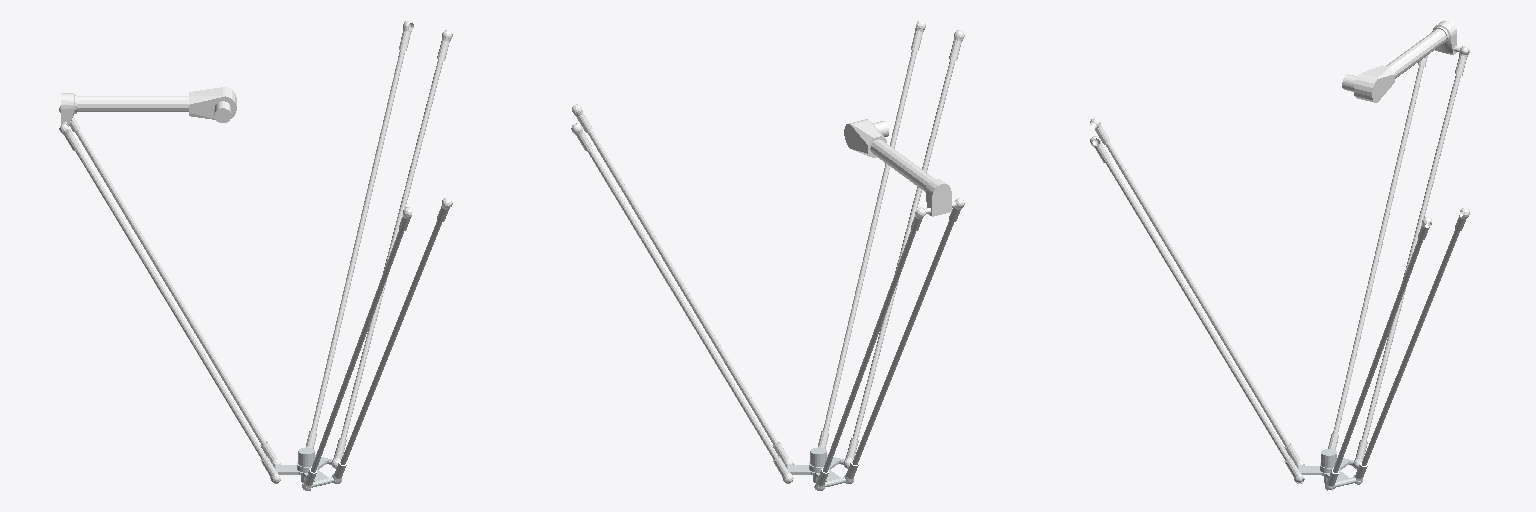
URDF robot description (delta2):
<?xml version="1.0" encoding="utf-8"?>
<!-- This URDF was automatically created by SolidWorks to URDF Exporter! Originally created by [author] ([email redacted]) 
     Commit Version: 1.6.0-1-g15f4949  Build Version: 1.6.7594.29634
     For more information, please see http://wiki.ros.org/sw_urdf_exporter -->
<robot
  name="delta2">
  <link
    name="base_link">
    <inertial>
      <origin
        xyz="0.380382318022096 -0.533525803977991 0.659302446320337"
        rpy="0 0 0" />
      <mass
        value="156.162689770185" />
      <inertia
        ixx="7.59889681143528"
        ixy="9.24660486503827E-05"
        ixz="-0.000259409545019092"
        iyy="7.59824264740178"
        iyz="0.00010227513749873"
        izz="10.3617884952824" />
    </inertial>
    <visual>
      <origin
        xyz="0 0 0"
        rpy="0 0 0" />
      <geometry>
        <mesh
          filename="package://delta2/meshes/base_link.STL" />
      </geometry>
      <material
        name="">
        <color
          rgba="1 1 1 1" />
      </material>
    </visual>
    <collision>
      <origin
        xyz="0 0 0"
        rpy="0 0 0" />
      <geometry>
        <mesh
          filename="package://delta2/meshes/base_link.STL" />
      </geometry>
    </collision>
  </link>
  <link
    name="upper_arm1">
    <inertial>
      <origin
        xyz="0.114792252146982 0.00182152585989759 0.0495423331065887"
        rpy="0 0 0" />
      <mass
        value="0.646884412038514" />
      <inertia
        ixx="0.000166776951356192"
        ixy="-0.000187543246495448"
        ixz="-4.04262175373021E-09"
        iyy="0.00675559133337472"
        iyz="6.15021017053937E-11"
        izz="0.0067770914347623" />
    </inertial>
    <visual>
      <origin
        xyz="0 0 0"
        rpy="0 0 0" />
      <geometry>
        <mesh
          filename="package://delta2/meshes/upper_arm1.STL" />
      </geometry>
      <material
        name="">
        <color
          rgba="1 1 1 1" />
      </material>
    </visual>
    <collision>
      <origin
        xyz="0 0 0"
        rpy="0 0 0" />
      <geometry>
        <mesh
          filename="package://delta2/meshes/upper_arm1.STL" />
      </geometry>
    </collision>
  </link>
  <joint
    name="joint1"
    type="revolute">
    <origin
      xyz="0.33287 -0.68352 0.39876"
      rpy="-1.5708 0 -1.5708" />
    <parent
      link="base_link" />
    <child
      link="upper_arm1" />
    <axis
      xyz="0 0 1" />
    <limit
      lower="0"
      upper="3.1416"
      effort="0"
      velocity="0" />
  </joint>
  <link
    name="lower_arm1">
    <inertial>
      <origin
        xyz="-0.0385647214747921 -0.395441709949408 0.00405635944419508"
        rpy="0 0 0" />
      <mass
        value="0.25492151618481" />
      <inertia
        ixx="0.0162920368473119"
        ixy="0.000189885453090978"
        ixz="1.85041042902049E-06"
        iyy="9.64407573212208E-06"
        iyz="-8.02477692587144E-05"
        izz="0.0162956013994657" />
    </inertial>
    <visual>
      <origin
        xyz="0 0 0"
        rpy="0 0 0" />
      <geometry>
        <mesh
          filename="package://delta2/meshes/lower_arm1.STL" />
      </geometry>
      <material
        name="">
        <color
          rgba="1 1 1 1" />
      </material>
    </visual>
    <collision>
      <origin
        xyz="0 0 0"
        rpy="0 0 0" />
      <geometry>
        <mesh
          filename="package://delta2/meshes/lower_arm1.STL" />
      </geometry>
    </collision>
  </link>
  <joint
    name="joint_lower1"
    type="fixed">
    <origin
      xyz="0.272569839075917 0.0246294631227099 0.00529664007075714"
      rpy="-0.0325087905561728 1.17076498742548 -2.67328944867135" />
    <parent
      link="upper_arm1" />
    <child
      link="lower_arm1" />
    <axis
      xyz="-0.80268650488072 0.389300348101268 -0.451816184250414" />
  </joint>
  <link
    name="upper_arm2">
    <inertial>
      <origin
        xyz="0.114792221305799 -0.00182152765219501 0.184356660884912"
        rpy="0 0 0" />
      <mass
        value="0.646884127953808" />
      <inertia
        ixx="0.000166777031838409"
        ixy="0.000187543435284771"
        ixz="4.3661167258054E-09"
        iyy="0.00675559025398929"
        iyz="7.91226234243781E-11"
        izz="0.00677709036650219" />
    </inertial>
    <visual>
      <origin
        xyz="0 0 0"
        rpy="0 0 0" />
      <geometry>
        <mesh
          filename="package://delta2/meshes/upper_arm2.STL" />
      </geometry>
      <material
        name="">
        <color
          rgba="1 1 1 1" />
      </material>
    </visual>
    <collision>
      <origin
        xyz="0 0 0"
        rpy="0 0 0" />
      <geometry>
        <mesh
          filename="package://delta2/meshes/upper_arm2.STL" />
      </geometry>
    </collision>
  </link>
  <joint
    name="joint2"
    type="revolute">
    <origin
      xyz="0.41708 -0.2971 0.39876"
      rpy="1.5708 0 0.5236" />
    <parent
      link="base_link" />
    <child
      link="upper_arm2" />
    <axis
      xyz="0 0 1" />
    <limit
      lower="-1.8717"
      upper="1.2699"
      effort="0"
      velocity="0" />
  </joint>
  <link
    name="lower_arm2">
    <inertial>
      <origin
        xyz="-0.106055427510473 -0.39544439868225 0.150769042438625"
        rpy="0 0 0" />
      <mass
        value="0.254921517015059" />
      <inertia
        ixx="0.0162961618156893"
        ixy="-4.65485707678165E-05"
        ixz="-1.15454674235013E-06"
        iyy="9.64407858575136E-06"
        iyz="-0.000200822067603626"
        izz="0.0162914765757807" />
    </inertial>
    <visual>
      <origin
        xyz="0 0 0"
        rpy="0 0 0" />
      <geometry>
        <mesh
          filename="package://delta2/meshes/lower_arm2.STL" />
      </geometry>
      <material
        name="">
        <color
          rgba="1 1 1 1" />
      </material>
    </visual>
    <collision>
      <origin
        xyz="0 0 0"
        rpy="0 0 0" />
      <geometry>
        <mesh
          filename="package://delta2/meshes/lower_arm2.STL" />
      </geometry>
    </collision>
  </link>
  <joint
    name="joint_lower2"
    type="fixed">
    <origin
      xyz="0.161268370049302 0.0346872050122739 0.314264003482573"
      rpy="3.12859851500547 0.227751807455416 2.64041159012637" />
    <parent
      link="upper_arm2" />
    <child
      link="lower_arm2" />
    <axis
      xyz="-0.761789553143763 0.456719545529523 0.459438715665464" />
  </joint>
  <link
    name="upper_arm3">
    <inertial>
      <origin
        xyz="0.114792190956304 -0.00182152531049112 -0.0251673198673815"
        rpy="0 0 0" />
      <mass
        value="0.6468839708117" />
      <inertia
        ixx="0.00016677683670584"
        ixy="0.000187543268799455"
        ixz="3.21501573298099E-09"
        iyy="0.00675558779094135"
        iyz="3.68581743894892E-11"
        izz="0.00677708810261763" />
    </inertial>
    <visual>
      <origin
        xyz="0 0 0"
        rpy="0 0 0" />
      <geometry>
        <mesh
          filename="package://delta2/meshes/upper_arm3.STL" />
      </geometry>
      <material
        name="">
        <color
          rgba="1 1 1 1" />
      </material>
    </visual>
    <collision>
      <origin
        xyz="0 0 0"
        rpy="0 0 0" />
      <geometry>
        <mesh
          filename="package://delta2/meshes/upper_arm3.STL" />
      </geometry>
    </collision>
  </link>
  <joint
    name="joint3"
    type="revolute">
    <origin
      xyz="0.26203 -0.43849 0.39876"
      rpy="1.5708 0 2.618" />
    <parent
      link="base_link" />
    <child
      link="upper_arm3" />
    <axis
      xyz="0 0 1" />
    <limit
      lower="-2.312"
      upper="0.82957"
      effort="0"
      velocity="0" />
  </joint>
  <link
    name="lower_arm3">
    <inertial>
      <origin
        xyz="0.0213350934780641 -0.286588133575785 -0.0277887227959333"
        rpy="0 0 0" />
      <mass
        value="0.254921517264014" />
      <inertia
        ixx="0.0162945570542806"
        ixy="-0.000125065415921308"
        ixz="2.55139020084727E-06"
        iyy="9.64403175115192E-06"
        iyz="0.000163872067994975"
        izz="0.0162930814287885" />
    </inertial>
    <visual>
      <origin
        xyz="0 0 0"
        rpy="0 0 0" />
      <geometry>
        <mesh
          filename="package://delta2/meshes/lower_arm3.STL" />
      </geometry>
      <material
        name="">
        <color
          rgba="1 1 1 1" />
      </material>
    </visual>
    <collision>
      <origin
        xyz="0 0 0"
        rpy="0 0 0" />
      <geometry>
        <mesh
          filename="package://delta2/meshes/lower_arm3.STL" />
      </geometry>
    </collision>
  </link>
  <joint
    name="joint_lower3"
    type="fixed">
    <origin
      xyz="0.230483769451967 -0.125613066735207 0.0154970866079977"
      rpy="0.0159234215285503 0.651825739186271 -0.488586704778935" />
    <parent
      link="upper_arm3" />
    <child
      link="lower_arm3" />
    <axis
      xyz="-0.37314531236443 0.87835127448214 -0.298766822917223" />
  </joint>
  <link
    name="target">
    <inertial>
      <origin
        xyz="-2.19269047363468E-14 0.00734510079555506 2.69657185469896E-10"
        rpy="0 0 0" />
      <mass
        value="0.20739711244002" />
      <inertia
        ixx="0.000172568881403432"
        ixy="-4.00305696308804E-19"
        ixz="2.99668969929268E-19"
        iyy="0.000277154102529208"
        iyz="3.89808767329123E-13"
        izz="0.000172568841088829" />
    </inertial>
    <visual>
      <origin
        xyz="0 0 0"
        rpy="0 0 0" />
      <geometry>
        <mesh
          filename="package://delta2/meshes/target.STL" />
      </geometry>
      <material
        name="">
        <color
          rgba="0.898039215686275 0.917647058823529 0.929411764705882 1" />
      </material>
    </visual>
    <collision>
      <origin
        xyz="0 0 0"
        rpy="0 0 0" />
      <geometry>
        <mesh
          filename="package://delta2/meshes/target.STL" />
      </geometry>
    </collision>
  </link>
  <joint
    name="joint_targer"
    type="fixed">
    <origin
      xyz="0.380374358144462 -0.533521580995337 -0.325140520136826"
      rpy="1.5707963267949 0 -3.14159265358979" />
    <parent
      link="base_link" />
    <child
      link="target" />
    <axis
      xyz="0 0 0" />
  </joint>
</robot>

--- Facts derived from the render (not from the file) ---
Views: 3 orthographic renders of the robot side by side, from view 1: azimuth 30°, elevation 25°; view 2: azimuth 150°, elevation 25°; view 3: azimuth 270°, elevation 25°.
Model delta2 with 8 links and 7 joints (3 revolute, 4 fixed), rooted at base_link, posed every joint at zero.
Links seen in each view (by area): view 1: lower_arm2, lower_arm3, upper_arm3, lower_arm1, target; view 2: lower_arm2, lower_arm1, lower_arm3, upper_arm3, target; view 3: lower_arm1, lower_arm3, lower_arm2, upper_arm3, target.
Link boxes in pixels (x1=…): lower_arm2: x1=306, y1=21, x2=452, y2=468; lower_arm3: x1=59, y1=106, x2=280, y2=483; upper_arm3: x1=61, y1=87, x2=236, y2=127; lower_arm1: x1=302, y1=198, x2=452, y2=490; target: x1=273, y1=447, x2=333, y2=487; lower_arm2: x1=571, y1=104, x2=793, y2=483; lower_arm1: x1=818, y1=21, x2=964, y2=468; lower_arm3: x1=814, y1=198, x2=964, y2=490; upper_arm3: x1=844, y1=119, x2=956, y2=216; target: x1=785, y1=447, x2=845, y2=486; lower_arm1: x1=1090, y1=118, x2=1304, y2=483; lower_arm3: x1=1328, y1=46, x2=1469, y2=469; lower_arm2: x1=1325, y1=208, x2=1469, y2=491; upper_arm3: x1=1342, y1=20, x2=1468, y2=102; target: x1=1295, y1=449, x2=1360, y2=489.
Size in the robot's own frame: 0.8087 by 0.7033 by 0.7739 metres.
5 mesh visuals loaded from 8 distinct referenced files (5 binary STL); not drawn: 3 (reference not matched to a file when rendering).